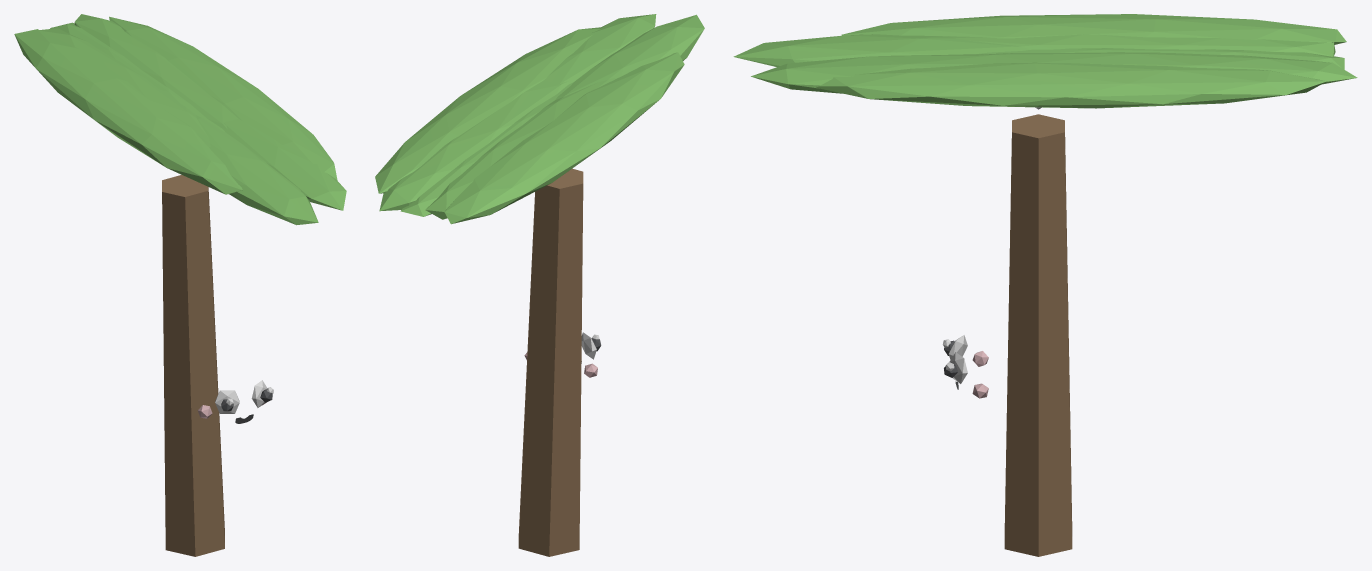
File: phoenix-roebelenii.glb
3 views of the same model, side by side, from view 1: azimuth 30°, elevation 25°; view 2: azimuth 150°, elevation 25°; view 3: azimuth 270°, elevation 25° (orthographic). The views are drawn at different scales.
Parts seen in each view (by area): view 1: trunk, frond3, frond0, frond2, frond6, frond1, frond4, frond5; view 2: trunk, frond3, frond0, frond6, frond2, frond4, frond1, frond5; view 3: trunk, frond0, frond3, frond2, frond6, frond4, frond1, frond5.
Boxes of the visible parts, bbox=[...] form: trunk: bbox=[162, 175, 224, 556]; frond3: bbox=[14, 29, 242, 194]; frond0: bbox=[109, 16, 337, 180]; frond2: bbox=[196, 115, 318, 225]; frond6: bbox=[74, 14, 237, 129]; frond1: bbox=[222, 118, 346, 210]; frond4: bbox=[40, 28, 210, 147]; frond5: bbox=[50, 22, 224, 131]; trunk: bbox=[518, 168, 583, 556]; frond3: bbox=[444, 52, 684, 224]; frond0: bbox=[375, 27, 600, 193]; frond6: bbox=[379, 80, 568, 211]; frond2: bbox=[555, 14, 704, 99]; frond4: bbox=[425, 78, 615, 219]; frond1: bbox=[544, 14, 656, 84]; frond5: bbox=[400, 82, 573, 216]; trunk: bbox=[1004, 114, 1072, 556]; frond0: bbox=[816, 62, 1326, 108]; frond3: bbox=[841, 14, 1346, 44]; frond2: bbox=[733, 34, 1030, 66]; frond6: bbox=[981, 52, 1357, 84]; frond4: bbox=[948, 34, 1335, 56]; frond1: bbox=[751, 54, 996, 93]; frond5: bbox=[976, 48, 1344, 69].
Size of the model in its own units: 0.2298 by 0.6297 by 0.7186.
